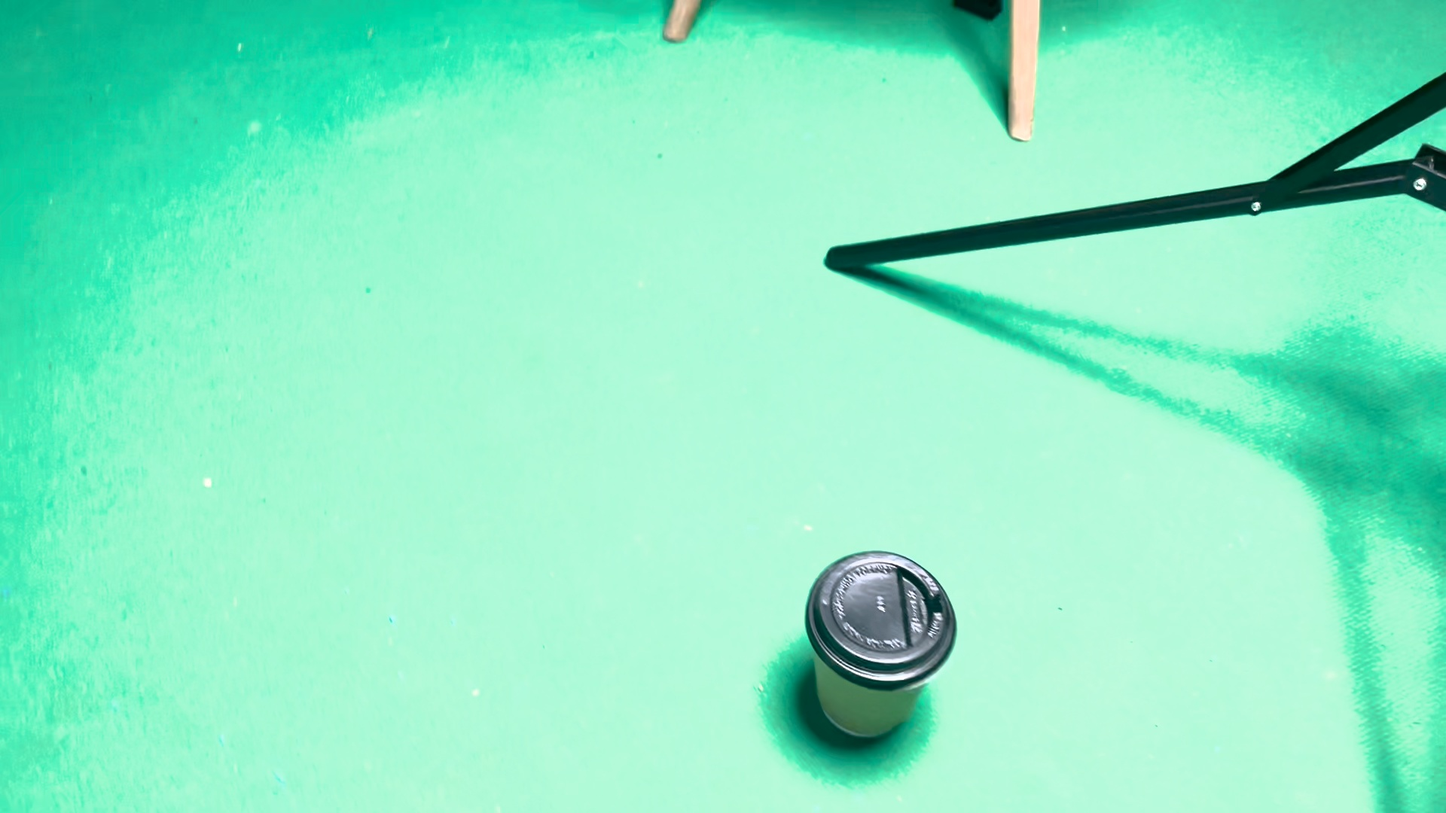cup: (725, 470, 827, 611)
